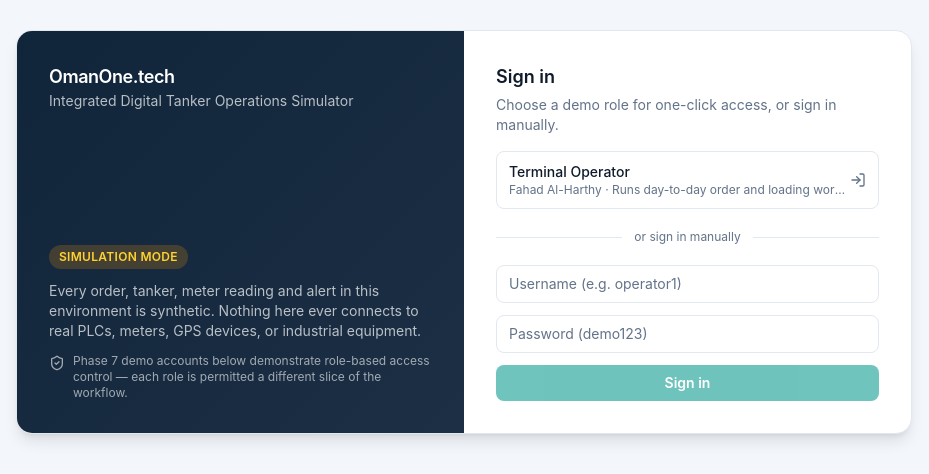
Test case: Login › shows an error and stays on the login screen when the password is wrong
In the field with placeholder "Username (e.g. operator1)": point(688, 284) x1=496 y1=265 x2=879 y2=303, type "operator1"
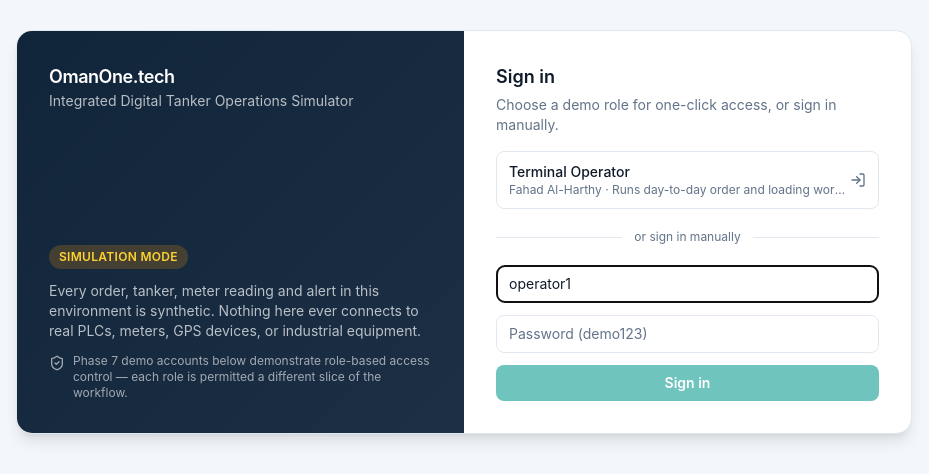
In the password field with placeholder "Password (demo123)": point(688, 334) x1=496 y1=315 x2=879 y2=353, type "wrong-password"
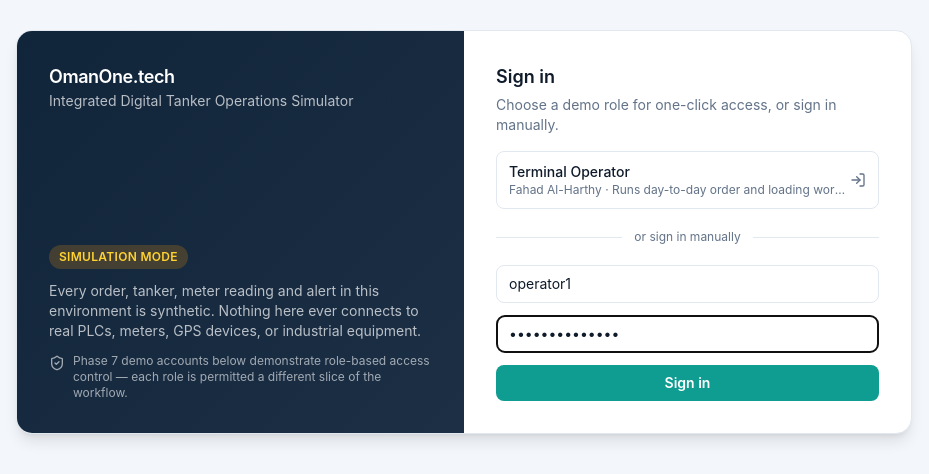
Click the button "Sign in": point(688, 383) x1=496 y1=365 x2=879 y2=401
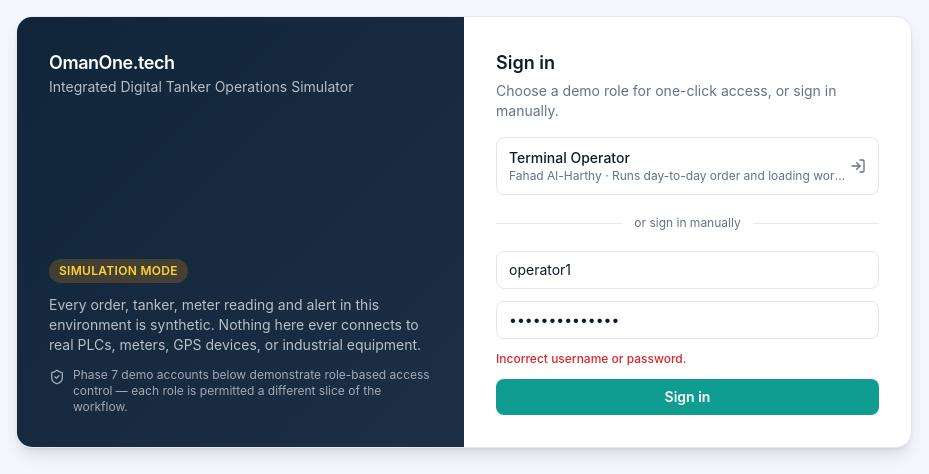
Result: the text "Incorrect username or password." is shown at x1=496 y1=351 x2=686 y2=366
